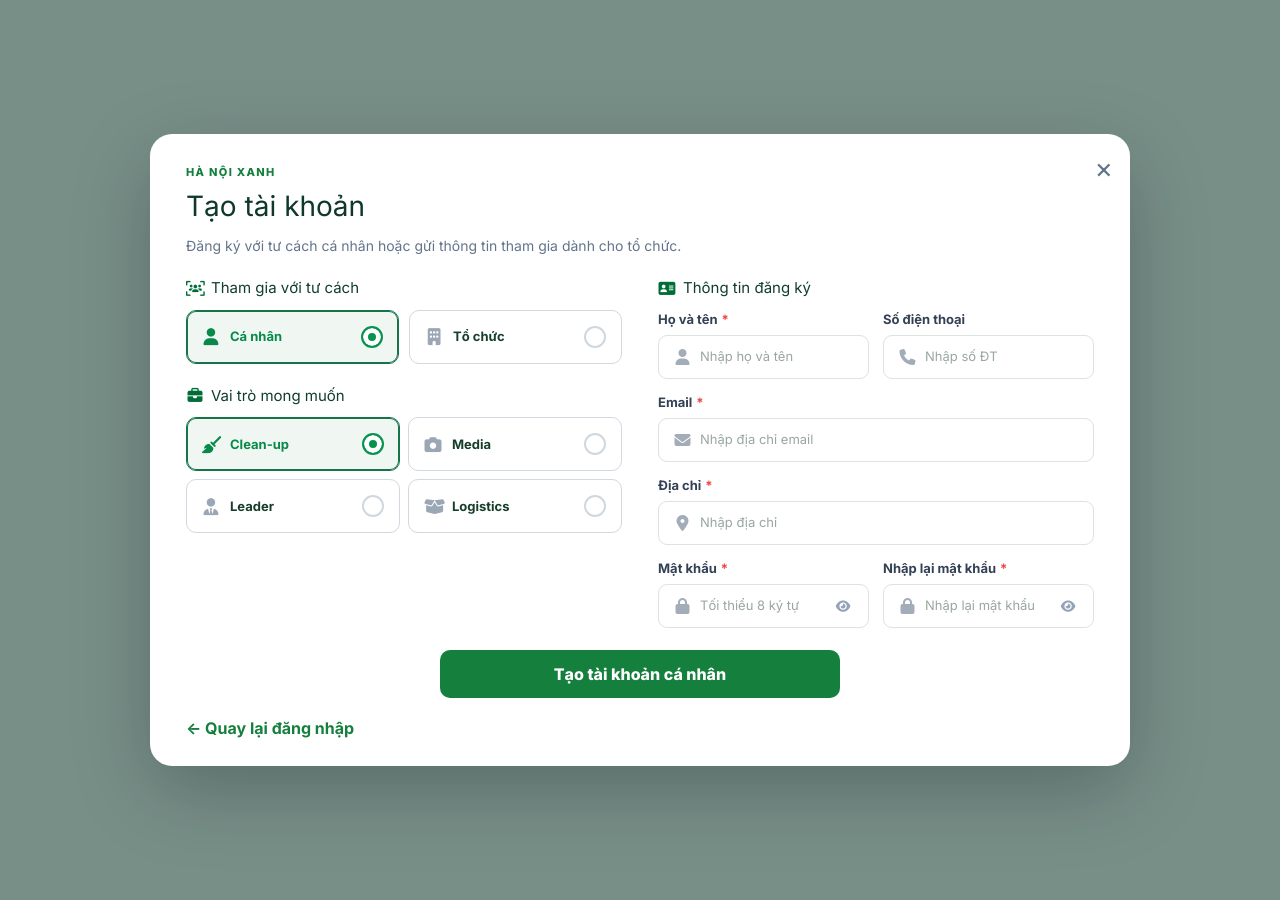
AuthModal registration › shows the organization success popup without creating an account
Click the radio button labelled "Tổ chức" at [516, 337], box left=409, top=310, right=622, bottom=364
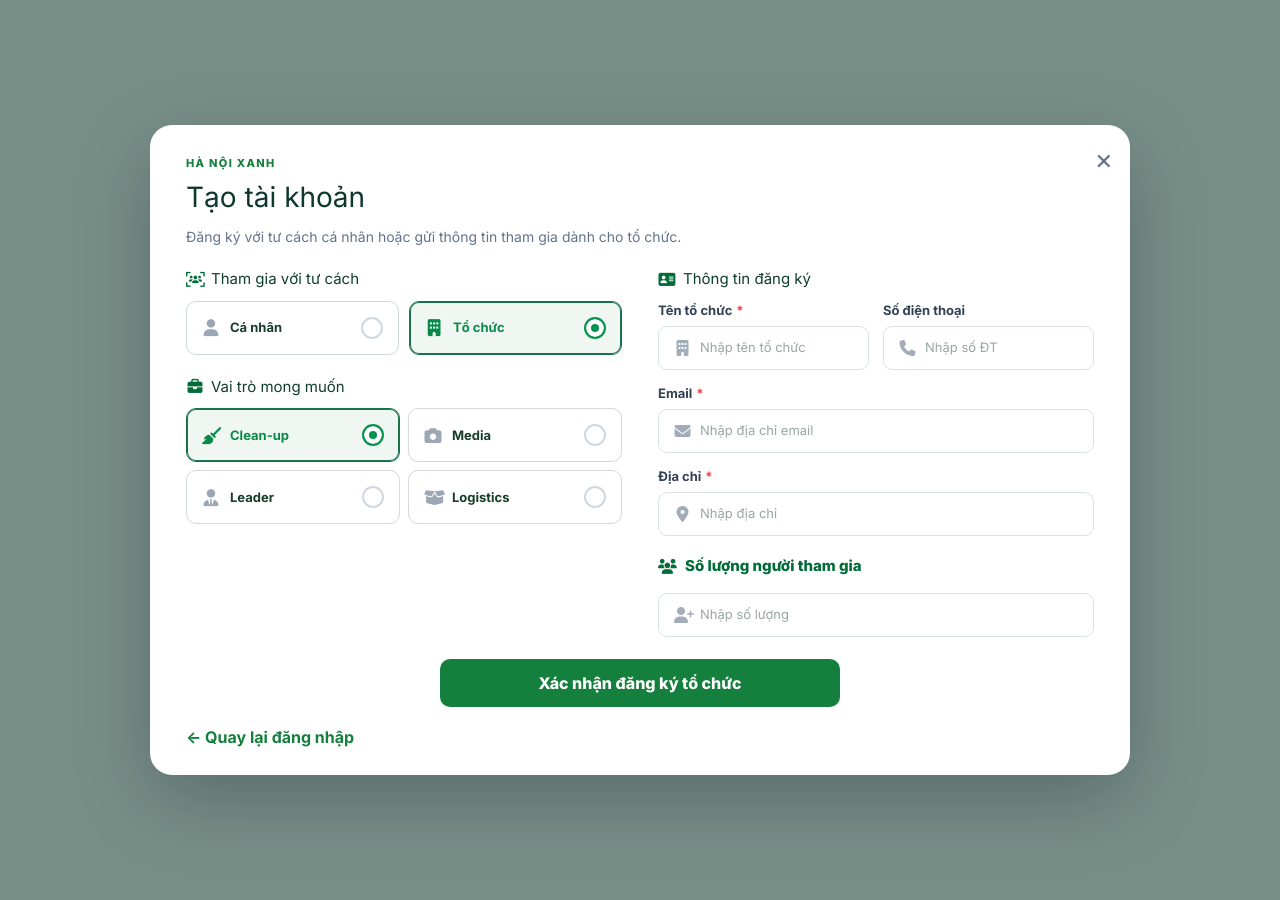
Type "Nhóm Xanh Hà Nội" into the field labelled "Tên tổ chức *" at [764, 348], box left=658, top=326, right=869, bottom=370
Type "0987231832" into the field labelled "Số điện thoại" at [988, 348], box left=883, top=326, right=1094, bottom=370
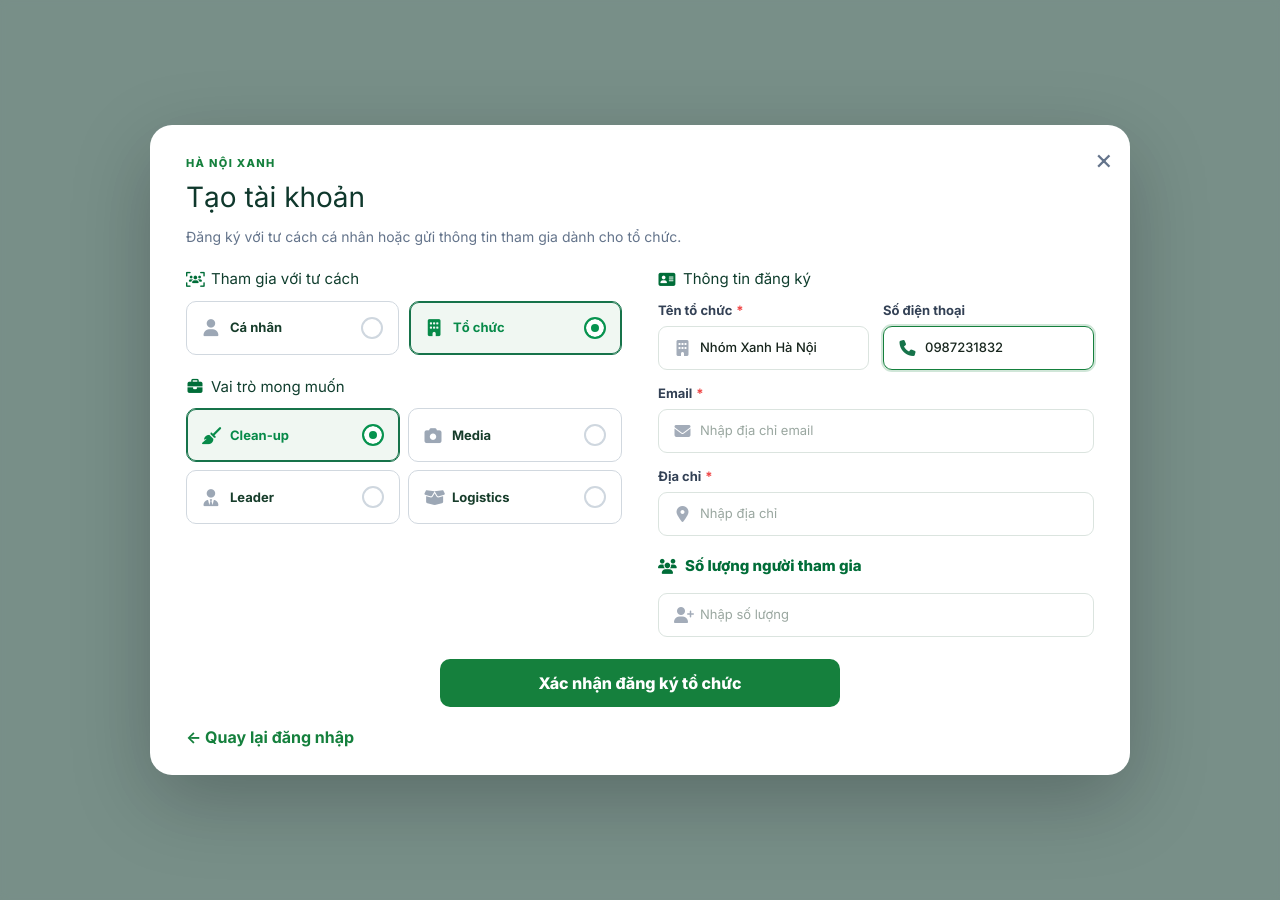
Type "tochuc@example.com" into the field labelled "Email *" at [876, 431], box left=658, top=409, right=1094, bottom=453
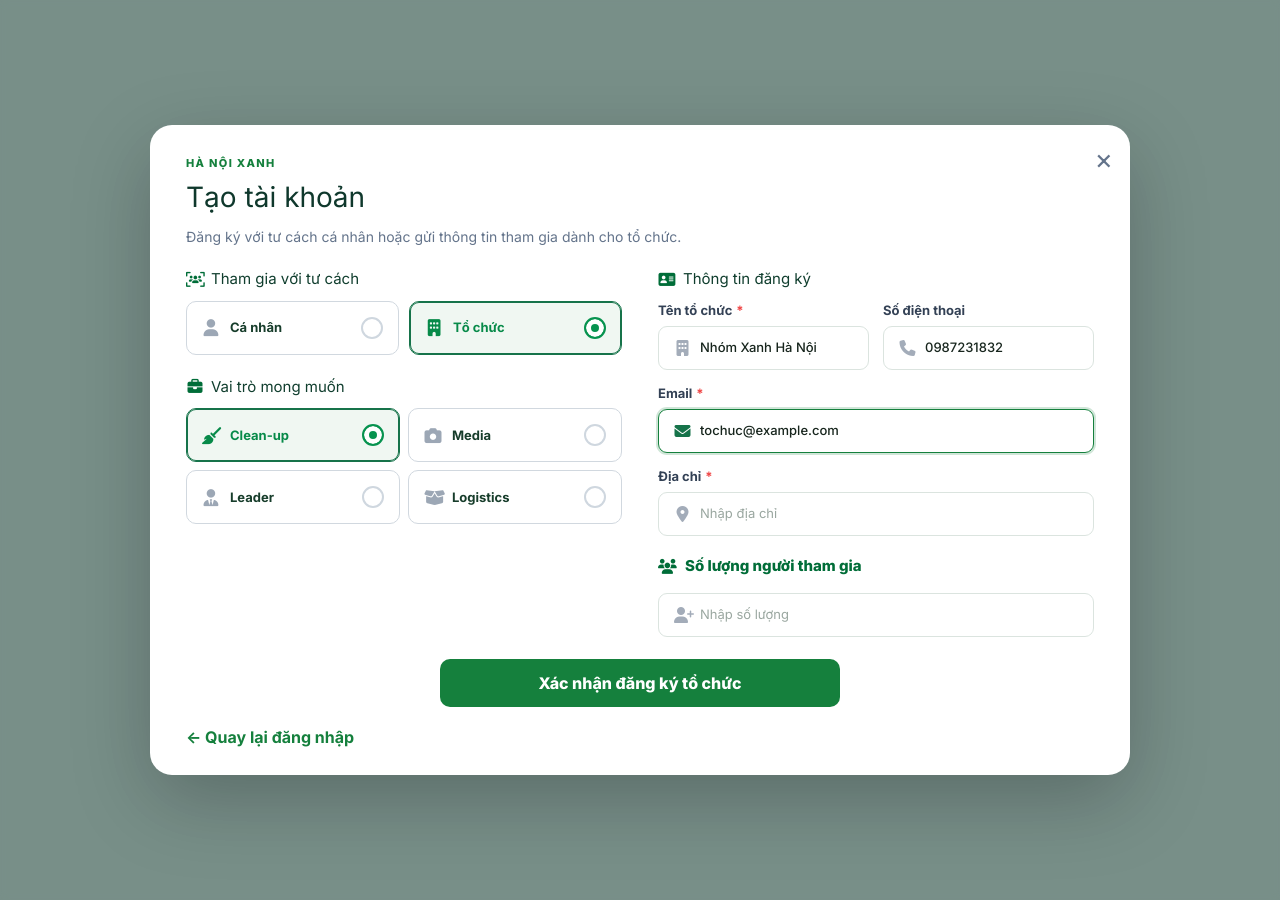
Type "Tây Hồ, Hà Nội" into the field labelled "Địa chỉ *" at [876, 514], box left=658, top=492, right=1094, bottom=536
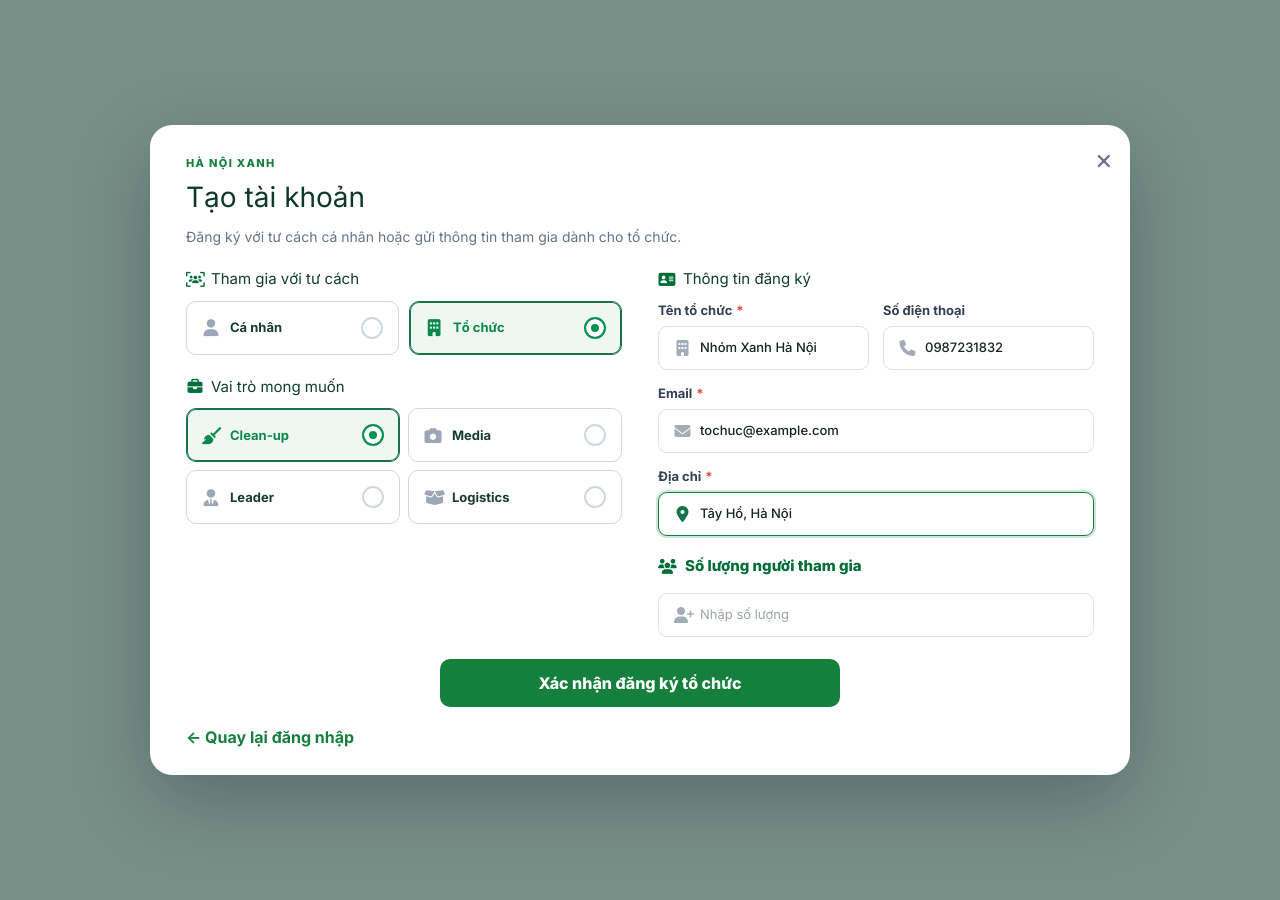
Type "20" into the number field labelled "Số lượng người tham gia" at [876, 615], box left=658, top=593, right=1094, bottom=637
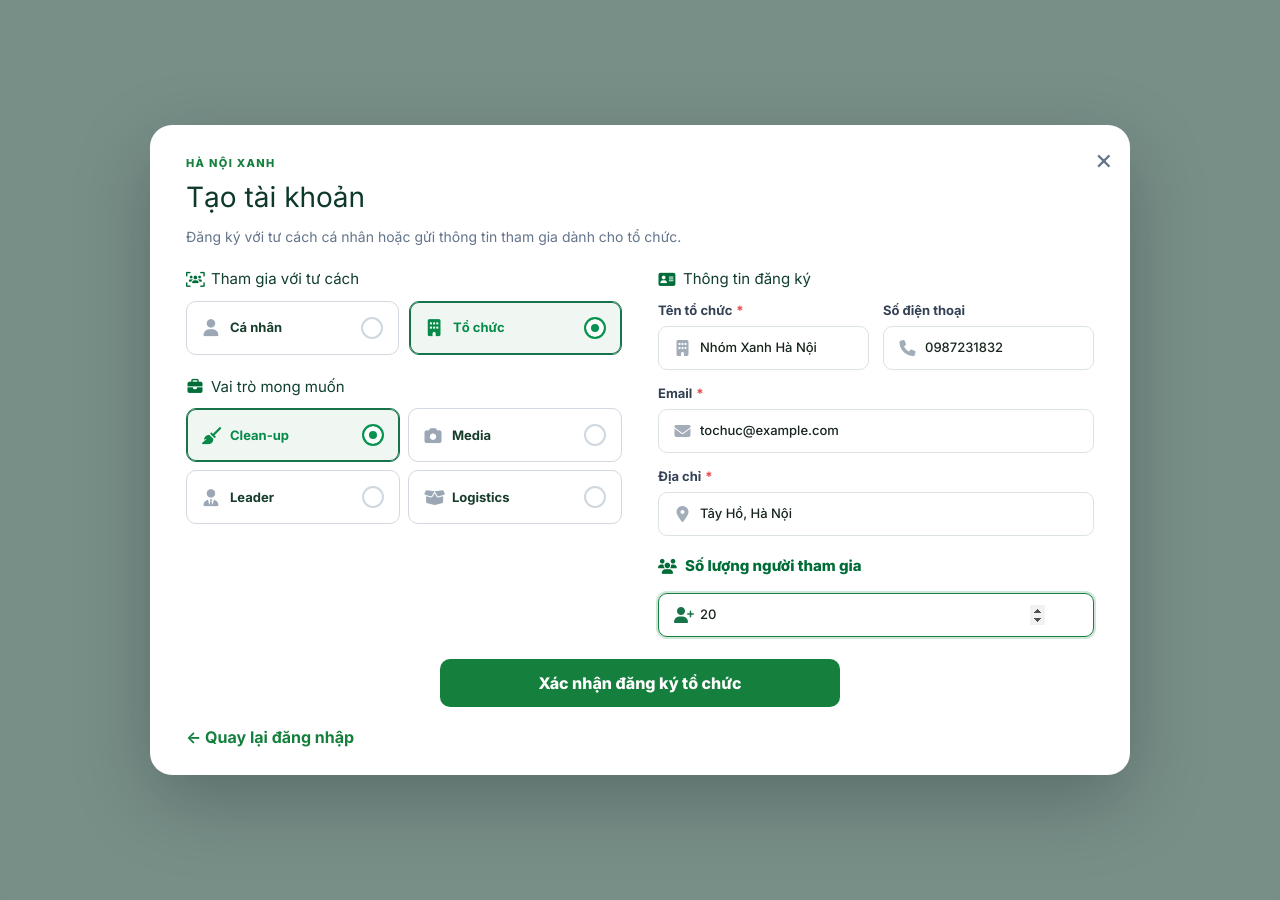
Click the button "Xác nhận đăng ký tổ chức" at [640, 683], box left=440, top=659, right=840, bottom=707
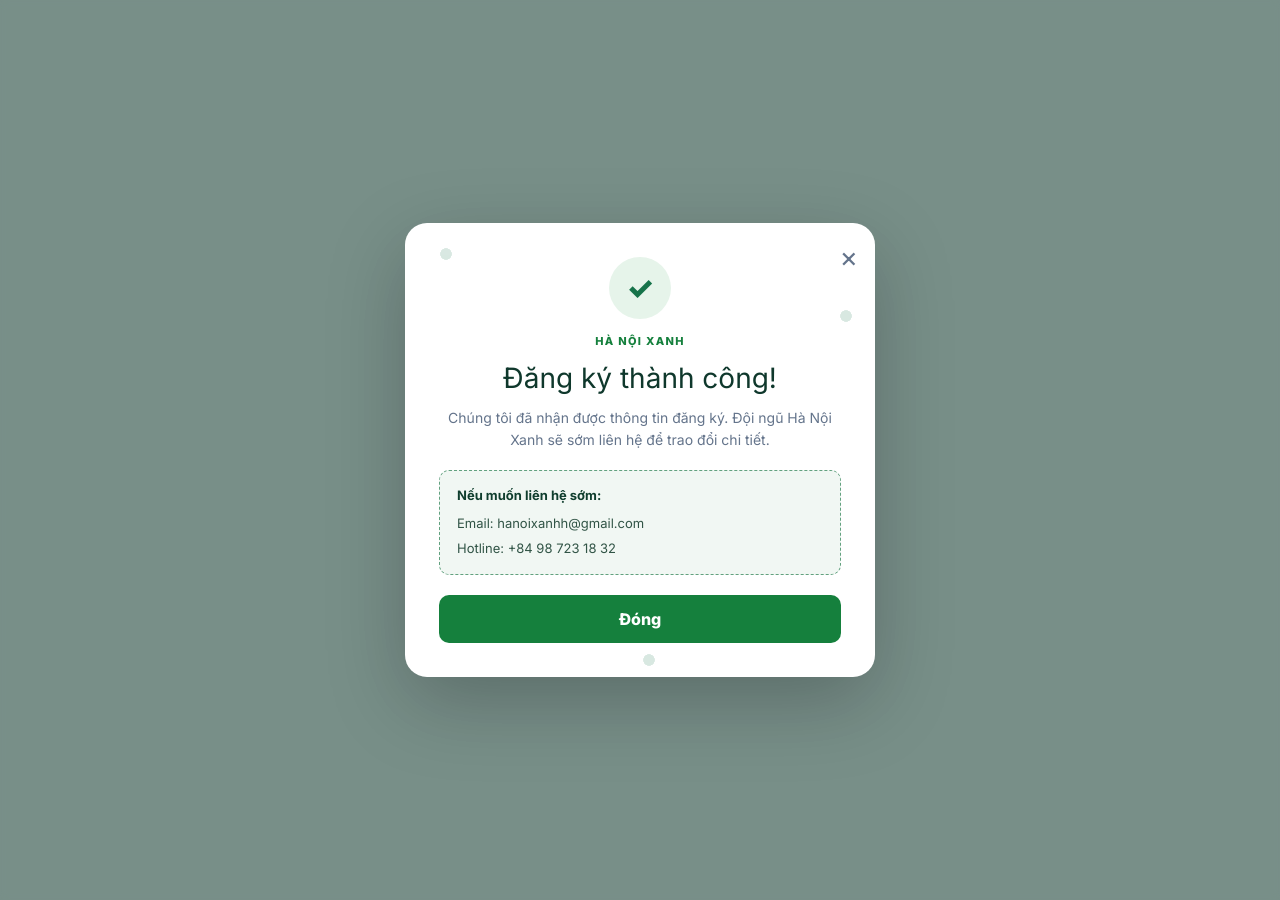
Expected: the field labelled "Mật khẩu" is not shown
Now the heading "Đăng ký thành công!" is shown, box left=503, top=361, right=777, bottom=395
